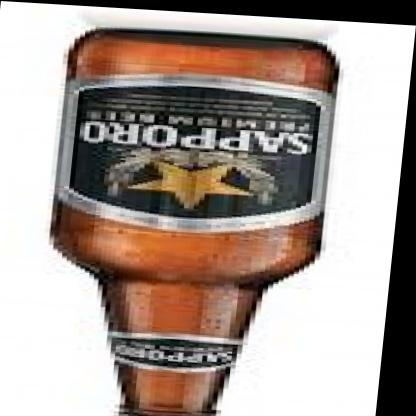trash: (52, 29, 337, 415)
